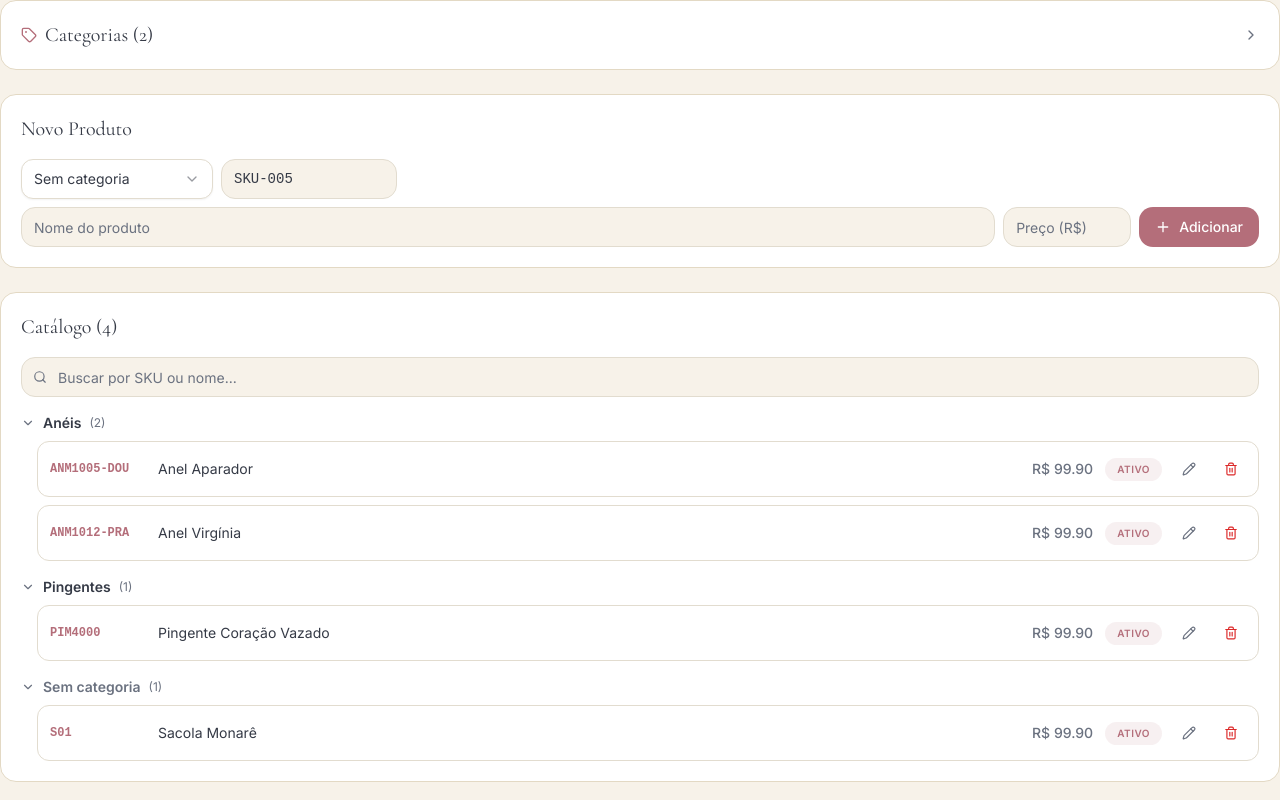
Test case: Produtos · busca por SKU ou nome › encontra pelo trecho do SKU
Expected: the heading "Catálogo (4)" is shown, x1=21 y1=315 x2=117 y2=339
Type "anm1012" into the field with placeholder "Buscar por SKU ou nome..." at (640, 377), box x1=21 y1=357 x2=1259 y2=397
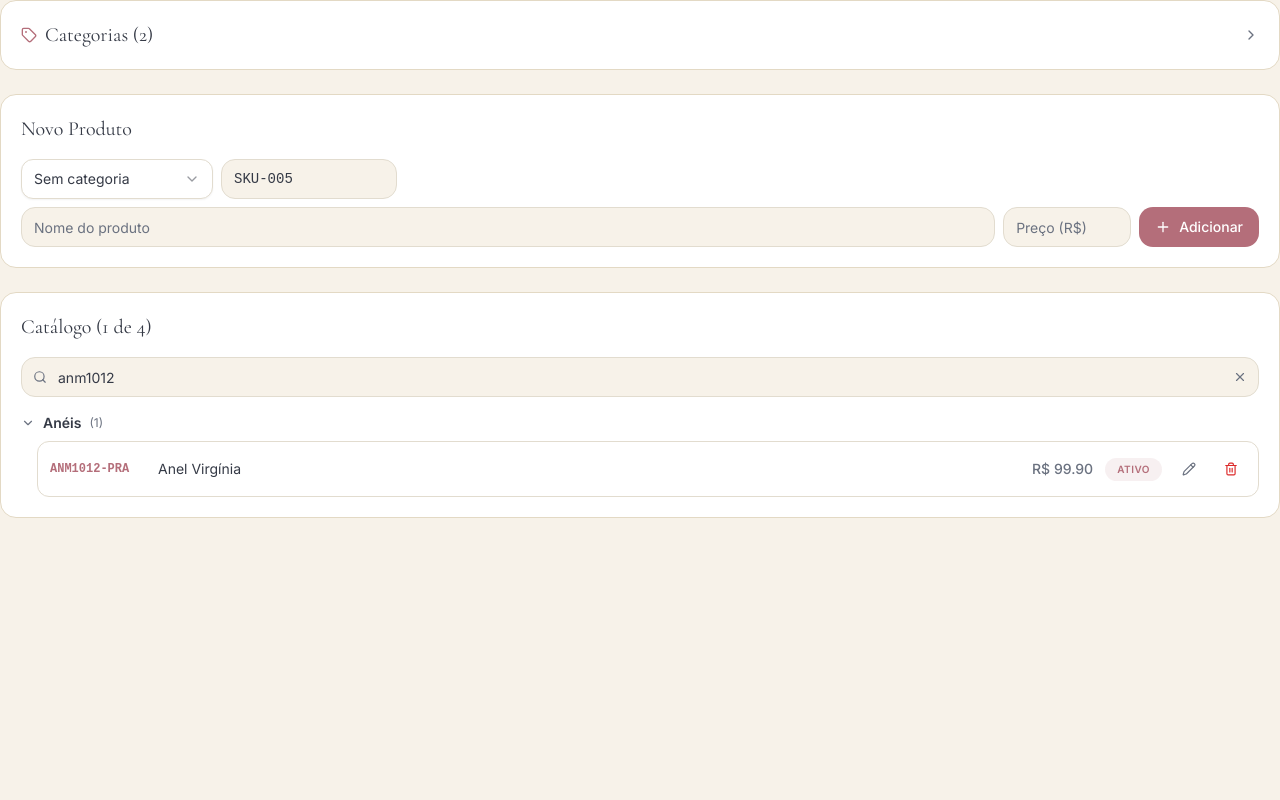
Expected: the text "ANM1012-PRA" is shown, x1=50 y1=462 x2=129 y2=476
Result: the text "ANM1005-DOU" is gone
Result: the text "PIM4000" is gone
